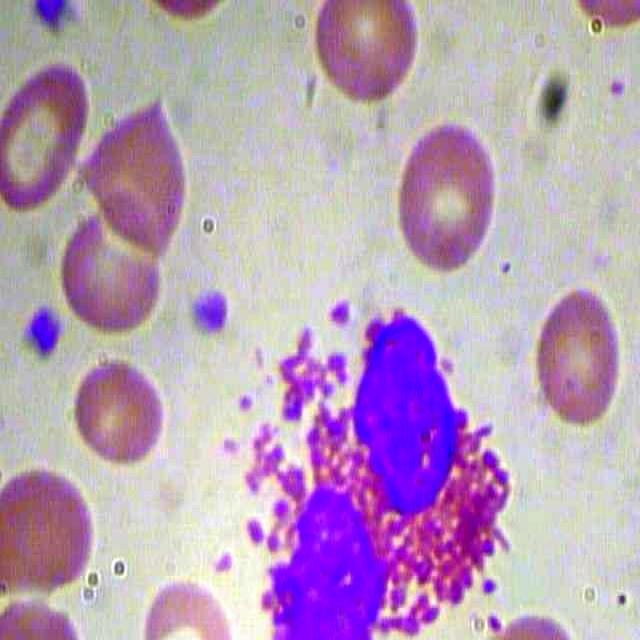Platelets: (19, 301, 70, 363), (182, 284, 232, 337), (31, 1, 73, 38)
RBC: (76, 89, 193, 244), (57, 184, 174, 339), (387, 122, 496, 282), (522, 278, 631, 438), (1, 462, 104, 606), (1, 56, 92, 216), (64, 352, 174, 468), (309, 1, 419, 116)
WBC: (225, 289, 531, 640)
